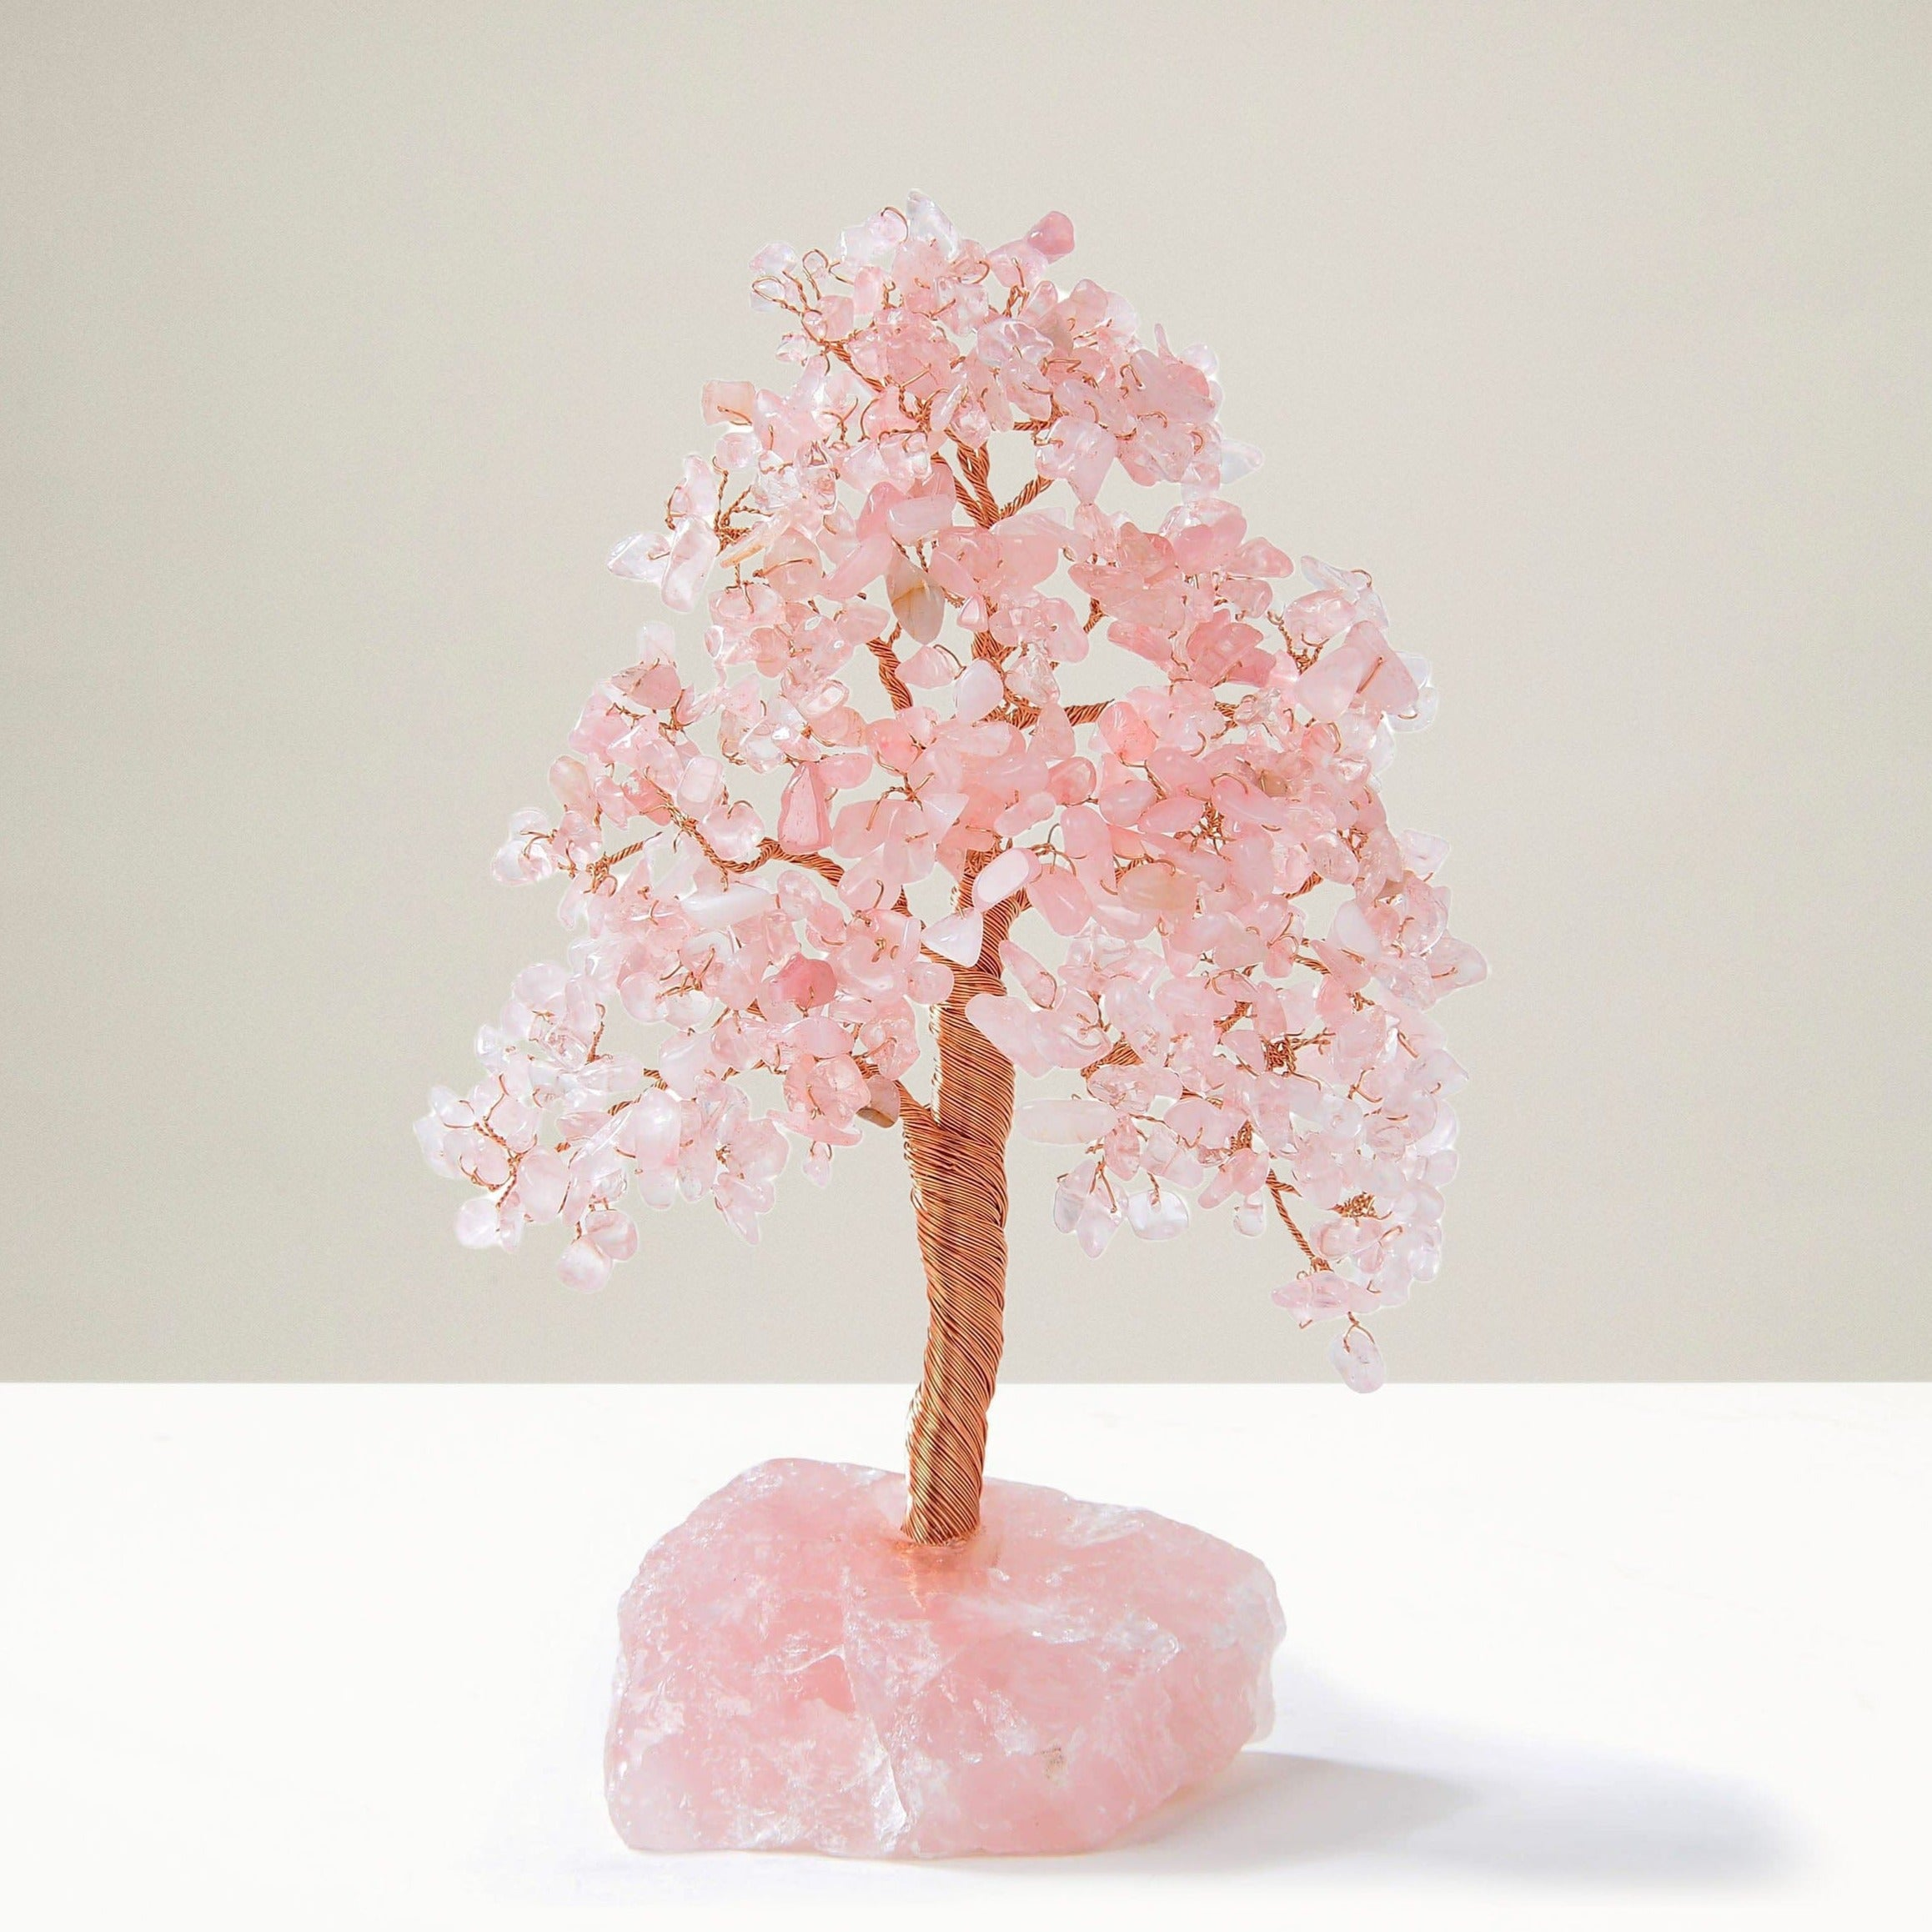Rose_Quartz: (412, 198, 1490, 1405), (600, 1454, 1286, 1863)
